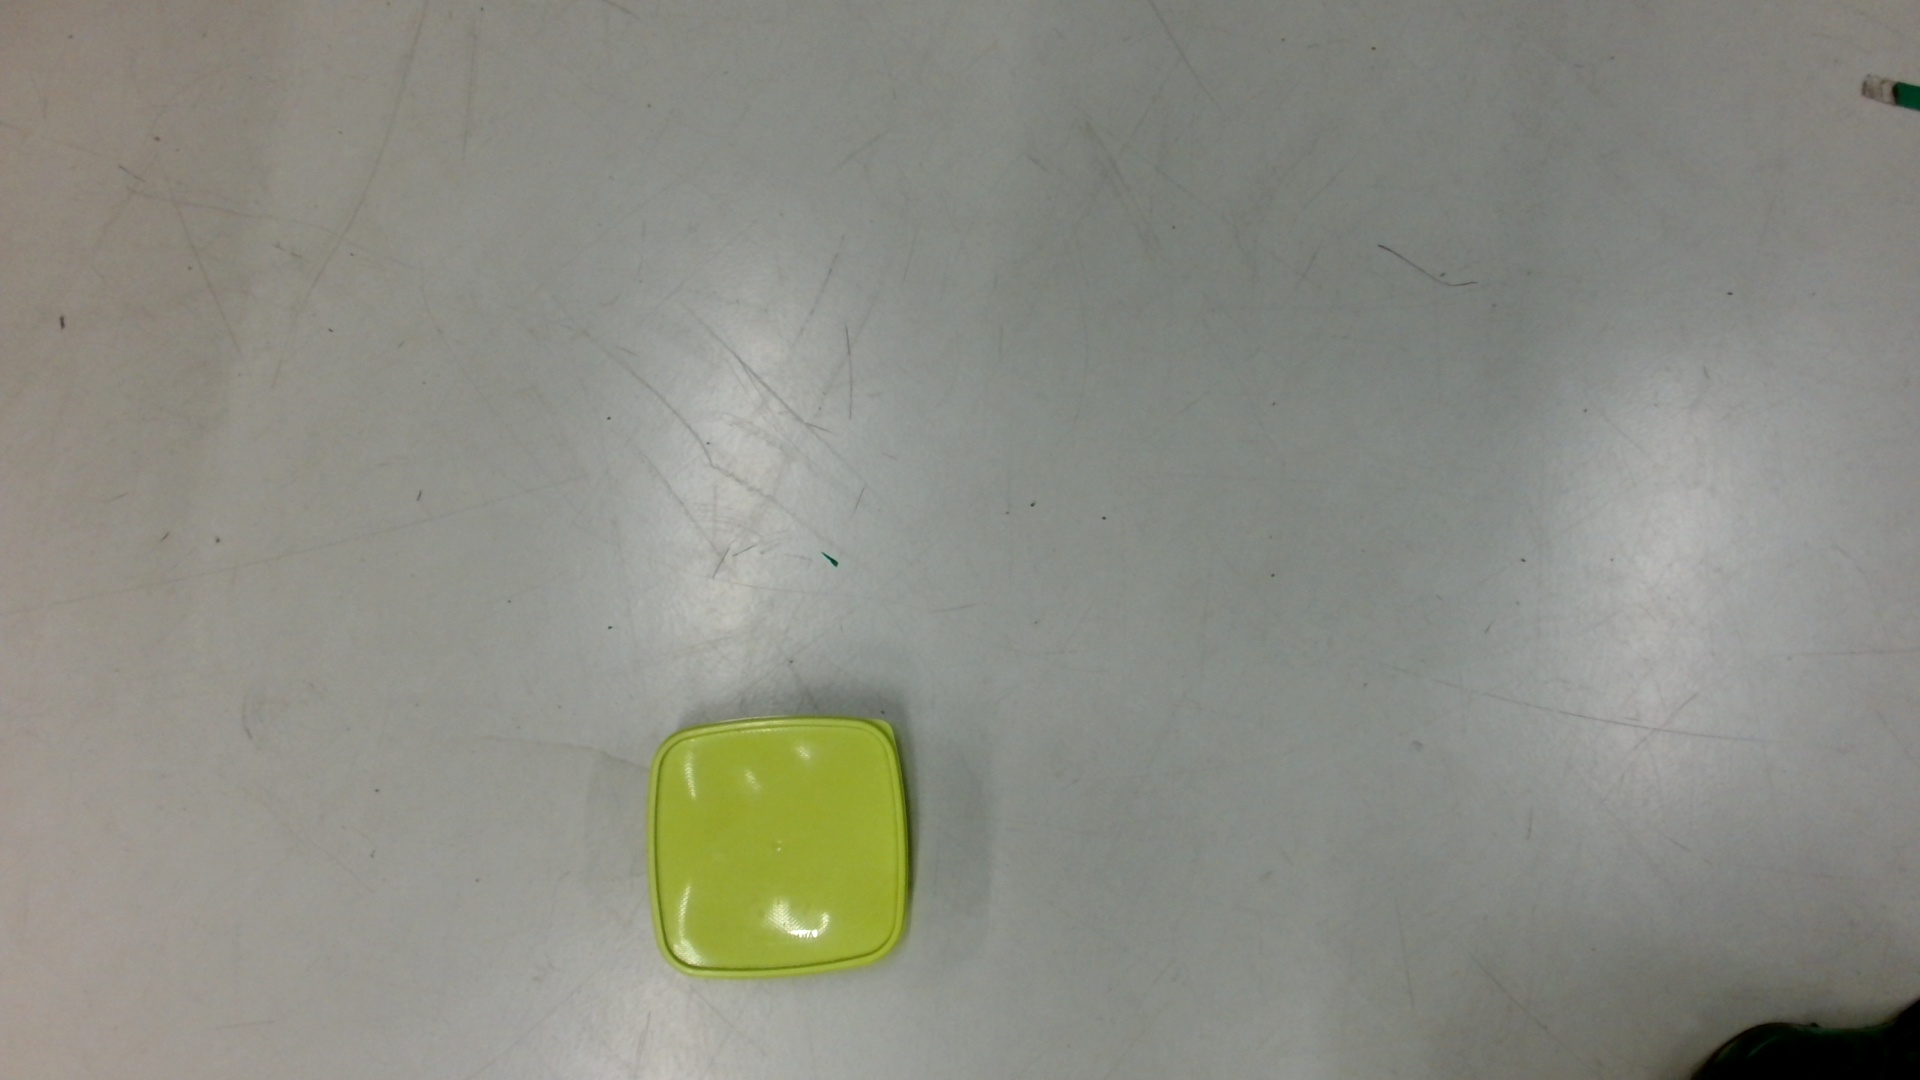Box: (641, 707, 920, 989)
